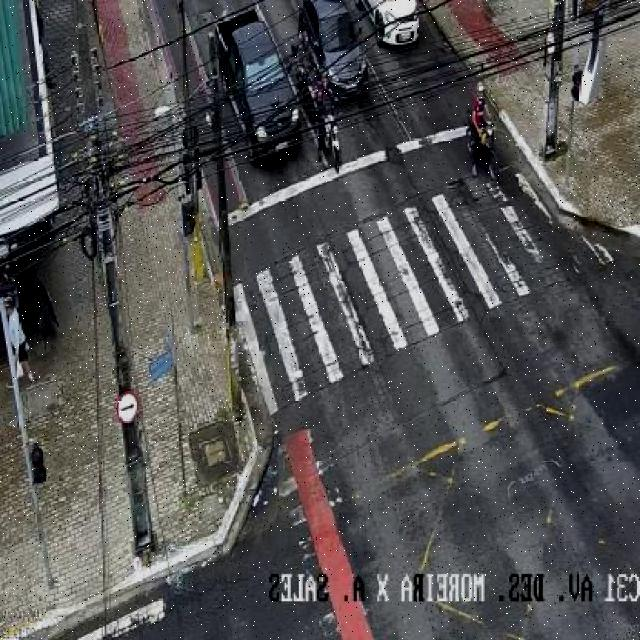car: (218, 8, 300, 164), (297, 3, 368, 103), (360, 0, 422, 48)
motorbike: (467, 82, 498, 180), (316, 78, 342, 172)
